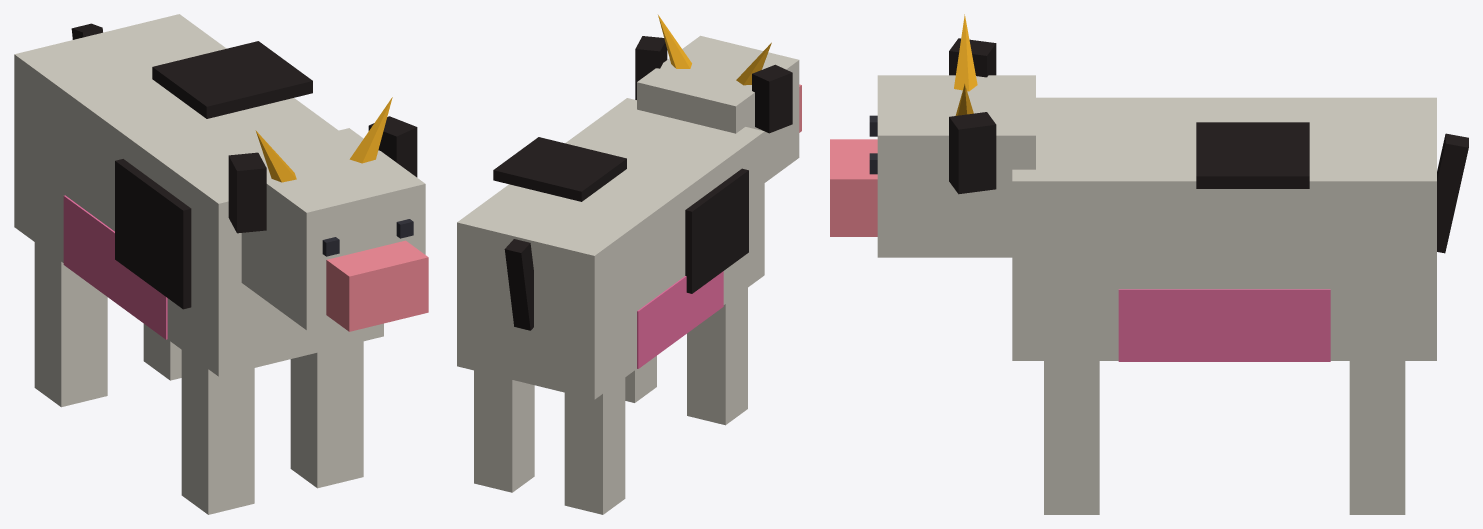
Rendered from cow.glb.
The picture shows the model from 3 angles, left to right: view 1: azimuth 30°, elevation 25°; view 2: azimuth 150°, elevation 25°; view 3: azimuth 270°, elevation 25°; orthographic projection. The views are drawn at different scales.
Visible parts, largest first — view 1: cow; view 2: cow; view 3: cow.
Boxes of the visible parts, bbox=[...] form: cow: bbox=[14, 14, 428, 514]; cow: bbox=[457, 15, 801, 514]; cow: bbox=[830, 14, 1468, 514].
Bounding box in the file's own units: 0.81 × 1.66 × 2.26.
